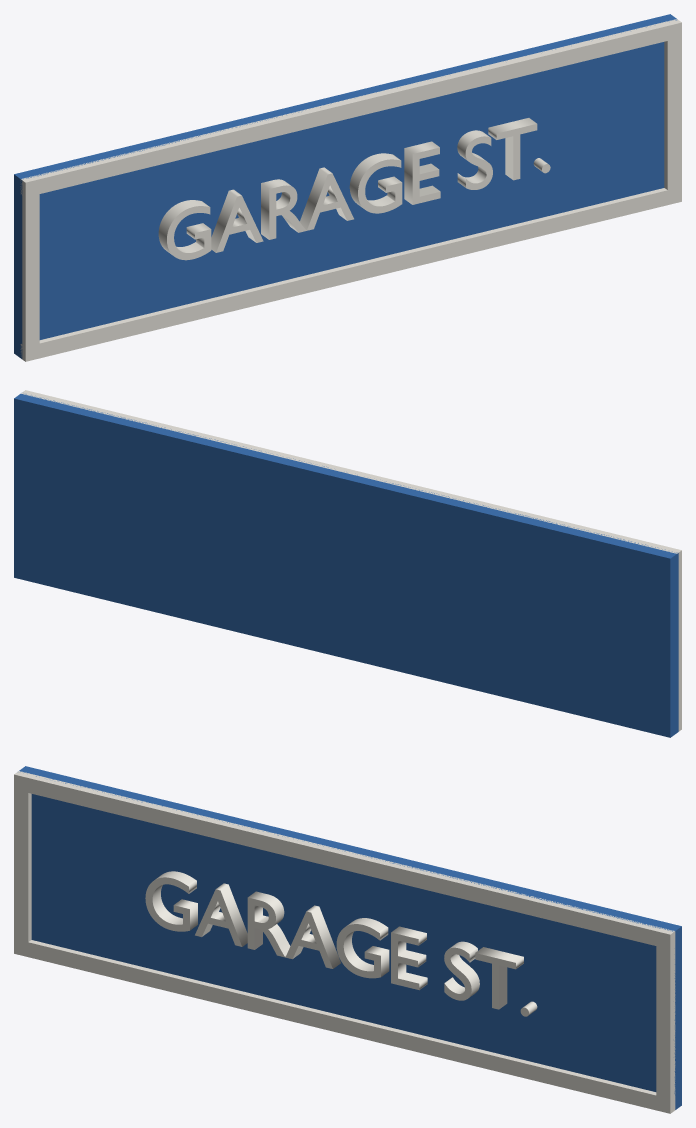
The model's file is sign_street.glb.
3 views of the same model, one above another, from view 1: azimuth 30°, elevation 25°; view 2: azimuth 150°, elevation 25°; view 3: azimuth 330°, elevation 25° (orthographic).
Parts seen in each view (by area): view 1: sign_street; view 2: sign_street; view 3: sign_street.
Part boxes in pixels (x1=…): sign_street: x1=14, y1=14, x2=681, y2=361; sign_street: x1=14, y1=390, x2=681, y2=737; sign_street: x1=14, y1=766, x2=681, y2=1113.
Bounding box in the file's own units: 0.92 × 0.24 × 0.04.
